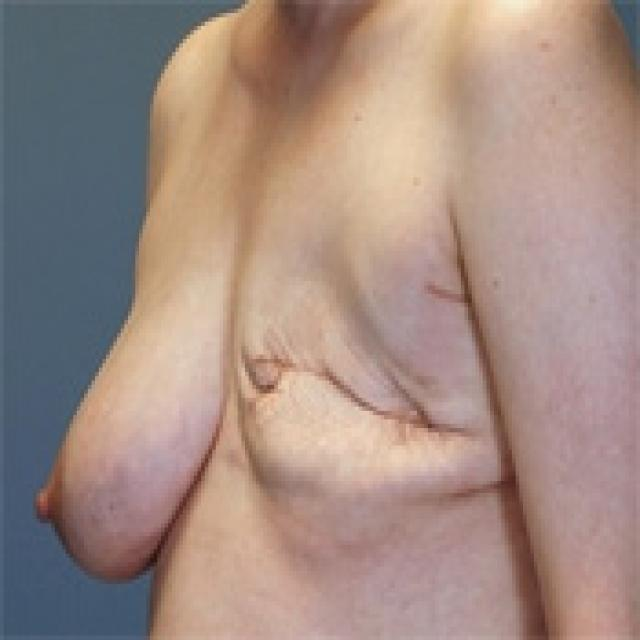Seno herido: (233, 262, 524, 527)
Seno ileso: (26, 242, 230, 612)
